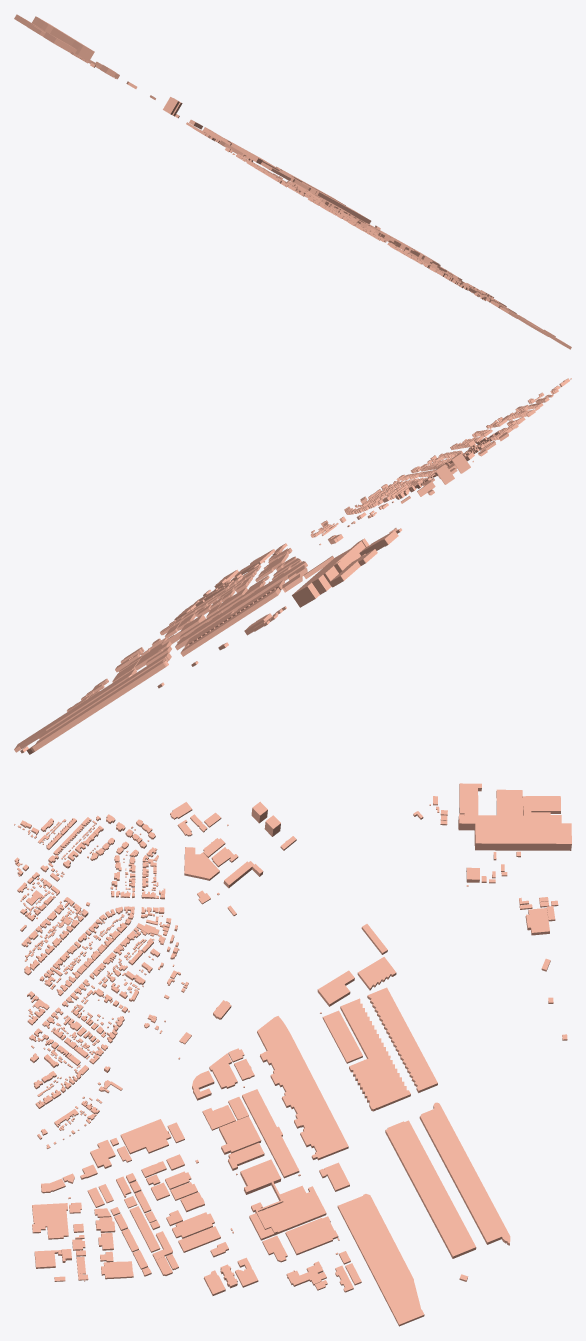
3 renders of one model, top to bottom at view 1: azimuth 30°, elevation 25°; view 2: azimuth 150°, elevation 25°; view 3: azimuth 270°, elevation 25°, orthographic. The views are drawn at different scales.
Bounding box in the file's own units: 1082 × 849 × 1253.
